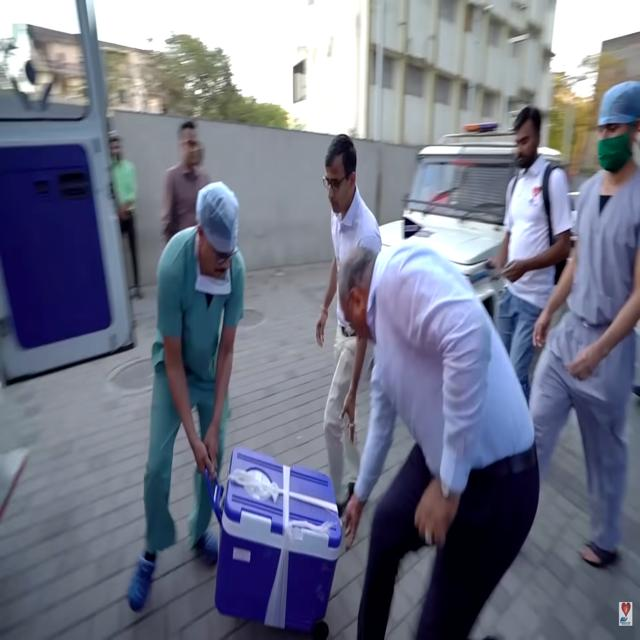emergency-vehicles: (360, 102, 586, 350)
